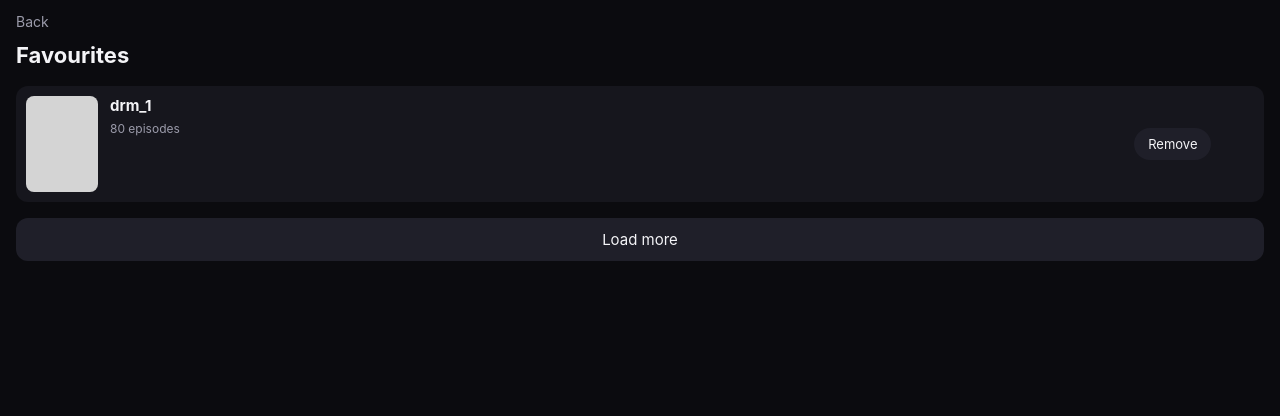
Test: paging the list › keeps the rows on screen when a further page fails
This screenshot has width=1280, height=416.
Click the button with test id "load-more-favorites". click: [640, 239]
box: [16, 218, 1264, 260]
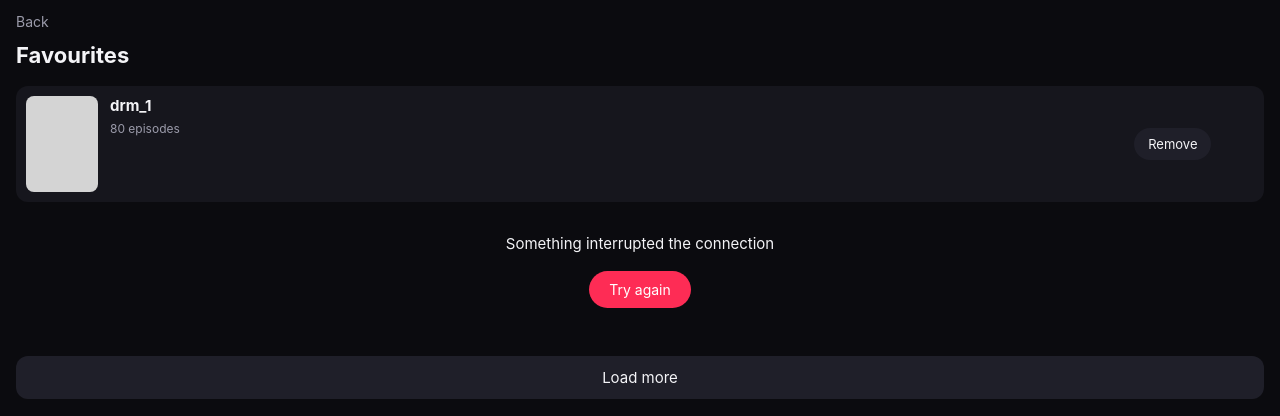
Check: the message "Something interrupted the connection Try again" is shown, box [506, 234, 774, 308]
